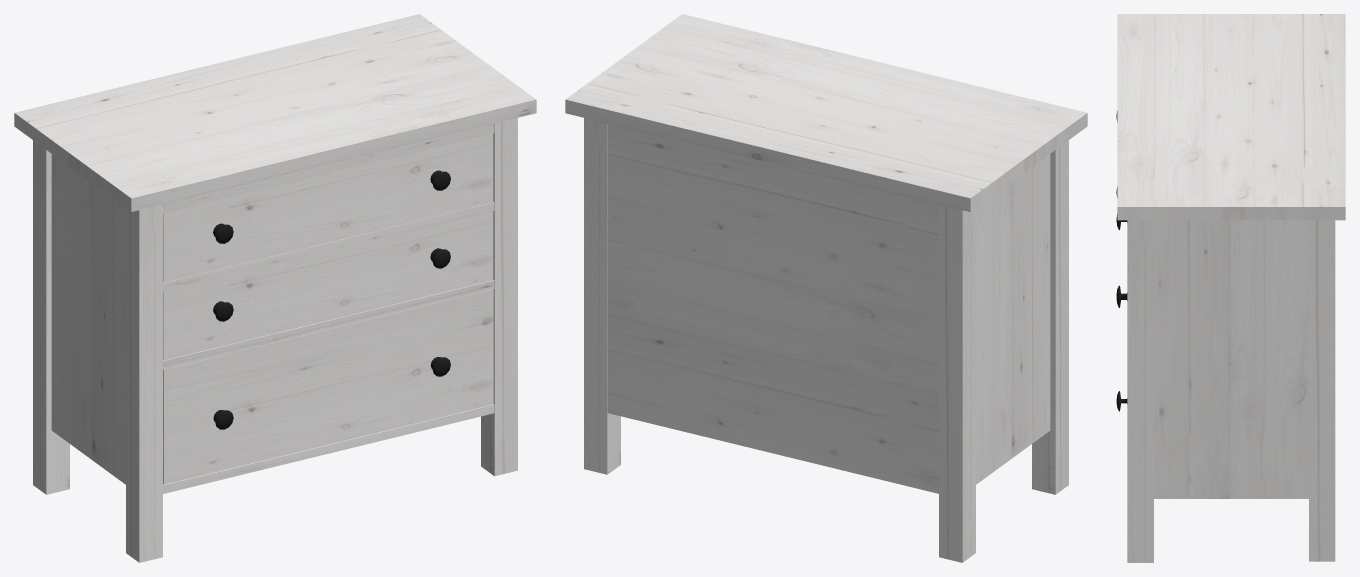
3 views of the same model, side by side, from view 1: azimuth 30°, elevation 25°; view 2: azimuth 150°, elevation 25°; view 3: azimuth 270°, elevation 25° (orthographic). The views are drawn at different scales.
Visible parts, largest first — view 1: CabinetA_Frame, CabinetA_Drawer.Lower, CabinetA_Drawer.Upper, CabinetA_Drawer.Middle; view 2: CabinetA_Frame; view 3: CabinetA_Frame.
Part boxes in pixels (box(x1,y1,x2,y2)): CabinetA_Frame: box(14, 14, 536, 562); CabinetA_Drawer.Lower: box(163, 289, 493, 484); CabinetA_Drawer.Upper: box(163, 133, 493, 282); CabinetA_Drawer.Middle: box(163, 211, 493, 360); CabinetA_Frame: box(565, 14, 1087, 562); CabinetA_Frame: box(1117, 14, 1345, 562).
Size of the model in its own units: 2.51 by 2.2 by 1.26.
1 material, 1 textured.
